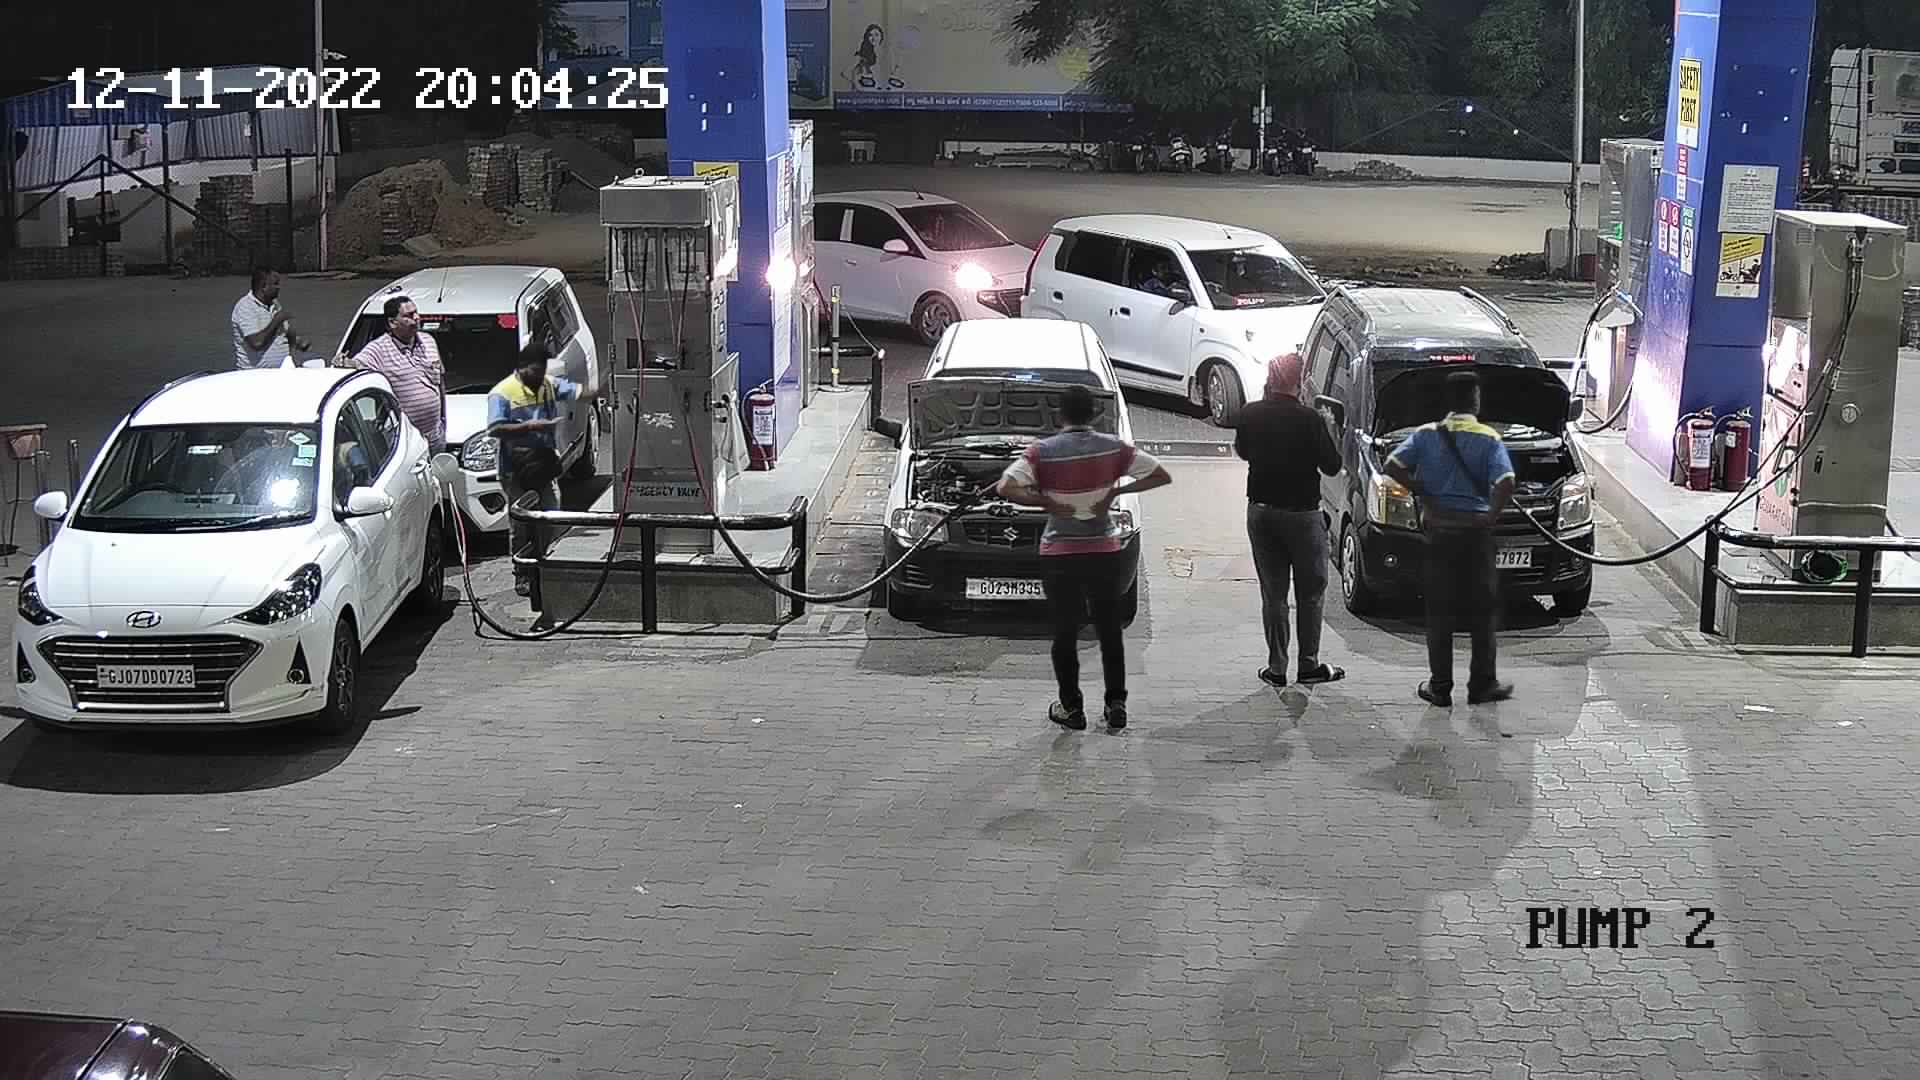Bike: (1120, 113, 1159, 182), (1200, 113, 1241, 177), (1279, 120, 1324, 173), (1159, 113, 1196, 177), (1251, 120, 1288, 177)
Car: (9, 335, 469, 760), (1280, 287, 1618, 633), (860, 303, 1153, 625), (320, 240, 620, 526), (1010, 196, 1361, 422), (0, 887, 359, 1080), (769, 166, 1023, 352)
HMV: (1778, 38, 1915, 233)
Others: (1371, 368, 1520, 705), (484, 339, 585, 600)
